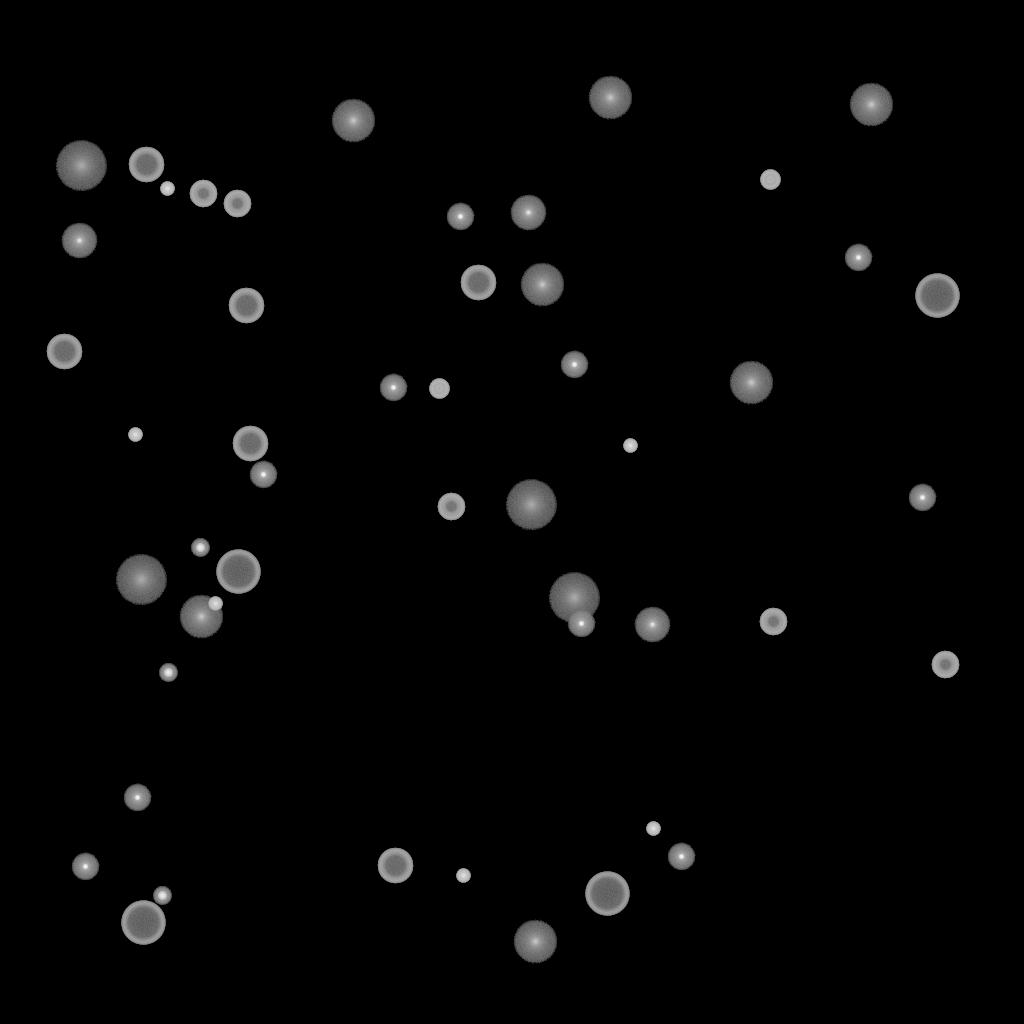depth:-10: (667, 843, 695, 871), (560, 351, 588, 379), (908, 484, 936, 512), (379, 374, 407, 402), (123, 784, 151, 812), (446, 203, 474, 231), (71, 853, 99, 881), (567, 610, 595, 638), (844, 244, 872, 272), (249, 461, 277, 489)
depth:-20: (191, 539, 209, 557), (159, 664, 177, 682), (153, 887, 171, 905)
depth:-30: (128, 428, 142, 442), (646, 822, 660, 836), (208, 597, 222, 611), (623, 439, 637, 453), (160, 182, 174, 196), (456, 869, 470, 883)
depth:-40: (760, 170, 780, 190), (429, 379, 449, 399)
depth:-50: (189, 180, 217, 208), (223, 190, 251, 218), (759, 608, 787, 636), (437, 493, 465, 521), (931, 651, 959, 679)
depth:-60: (232, 426, 268, 462), (46, 334, 82, 370), (128, 147, 164, 183), (377, 848, 413, 884), (228, 288, 264, 324), (460, 265, 496, 301)
depth:-70: (216, 550, 260, 594), (121, 901, 165, 945), (915, 274, 959, 318), (585, 872, 629, 916)
depth:0: (61, 223, 97, 259), (634, 607, 670, 643), (510, 195, 546, 231)
depth:10: (520, 263, 564, 307), (849, 83, 893, 127), (513, 920, 557, 964), (179, 595, 223, 639), (331, 99, 375, 143), (588, 76, 632, 120), (729, 361, 773, 405)
depth:20: (115, 555, 167, 605), (548, 573, 600, 623), (55, 141, 107, 191), (505, 480, 557, 530)
